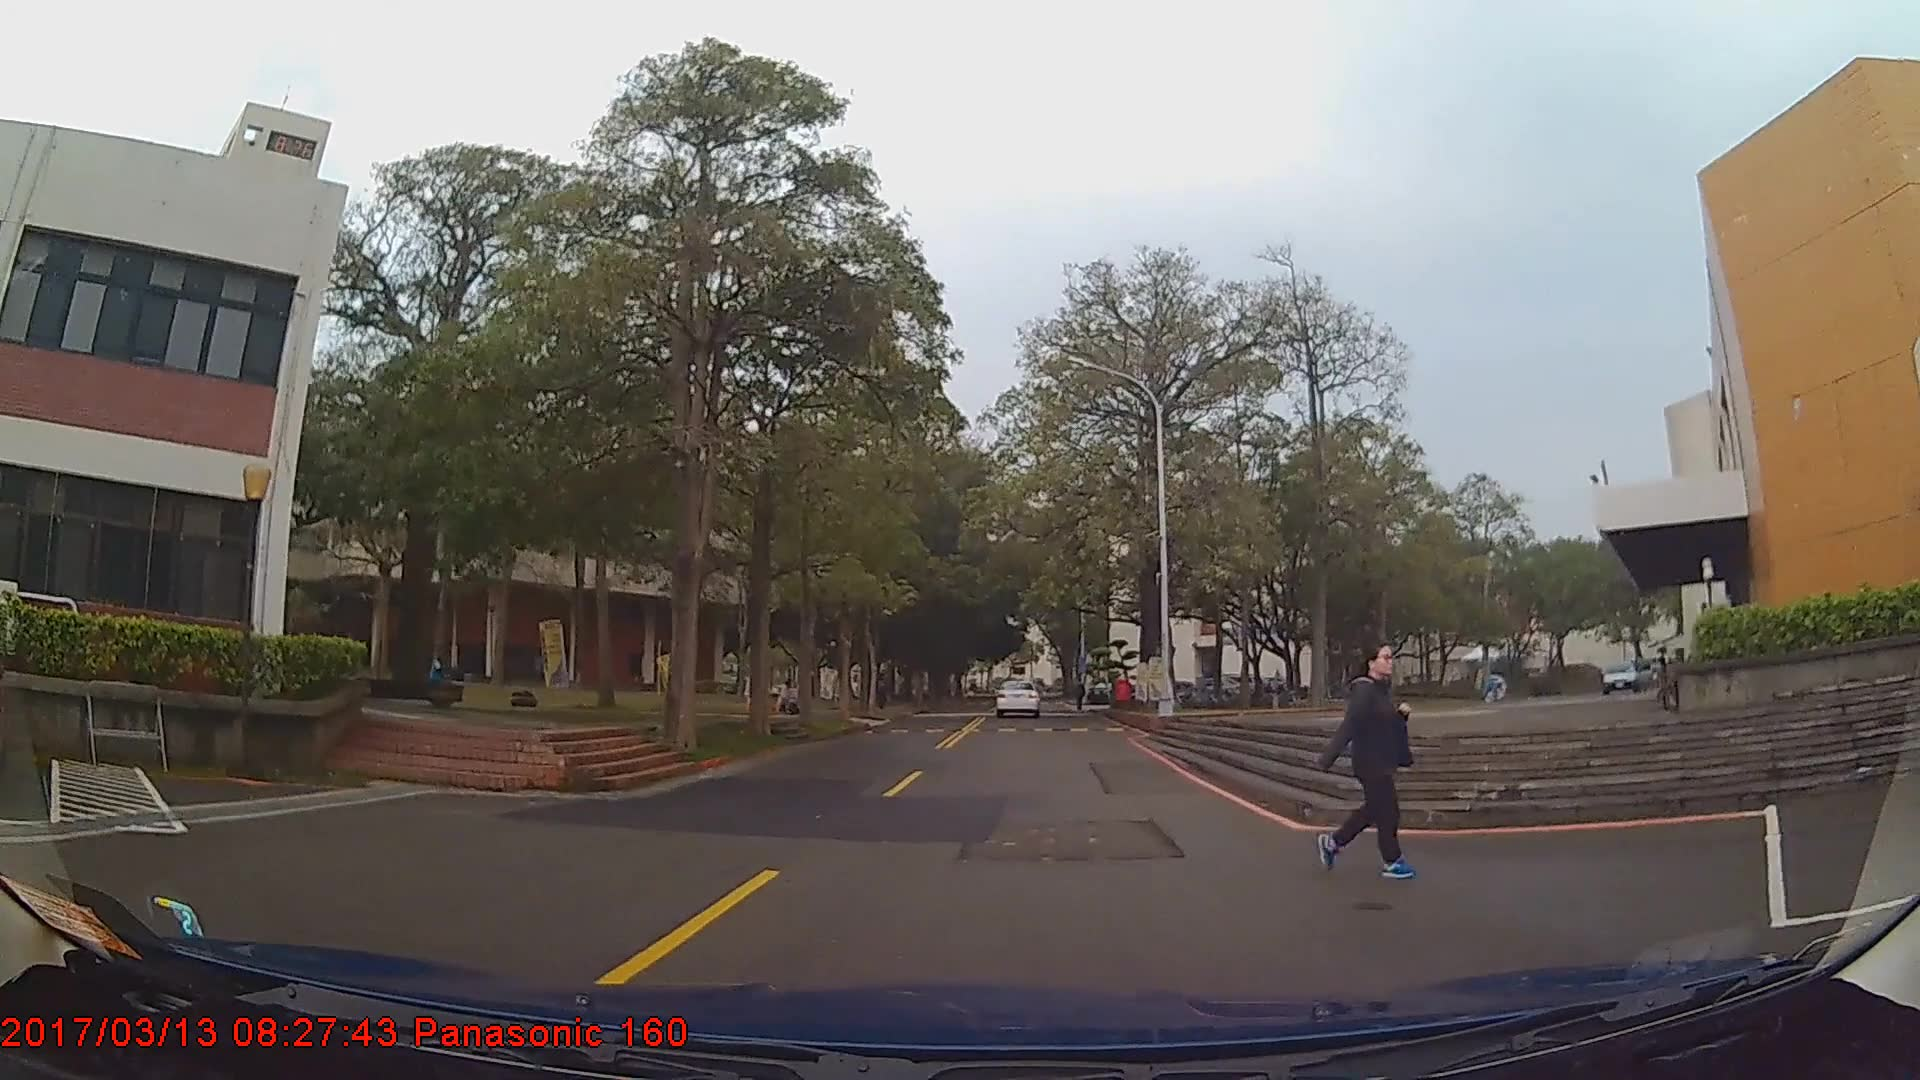pedestrian: (1320, 639, 1424, 880)
vehicle: (993, 680, 1040, 722)
